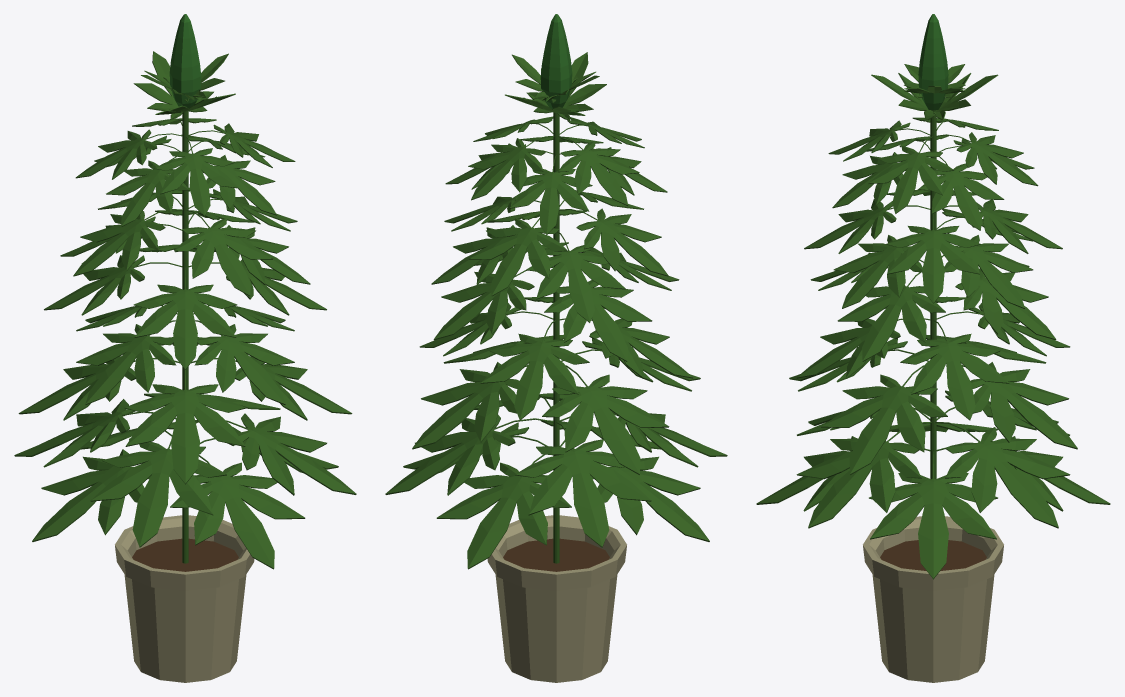
File: Marijuana Plant.fbx
3 renders of one model, left to right at view 1: azimuth 30°, elevation 25°; view 2: azimuth 150°, elevation 25°; view 3: azimuth 270°, elevation 25°, orthographic.
Parts seen in each view (by area): view 1: Marijuana Plant, Pot, Dirt; view 2: Marijuana Plant, Pot, Dirt; view 3: Marijuana Plant, Pot, Dirt.
Boxes of the visible parts, x1,y1,x2,y2 form: Marijuana Plant: (14,14,356,569); Pot: (115,515,254,682); Dirt: (132,538,238,571); Marijuana Plant: (385,14,727,569); Pot: (487,515,626,682); Dirt: (503,538,609,571); Marijuana Plant: (756,14,1110,579); Pot: (863,516,1003,682); Dirt: (880,540,986,570).
Size of the model in its own units: 8.28 by 16.65 by 8.28.
